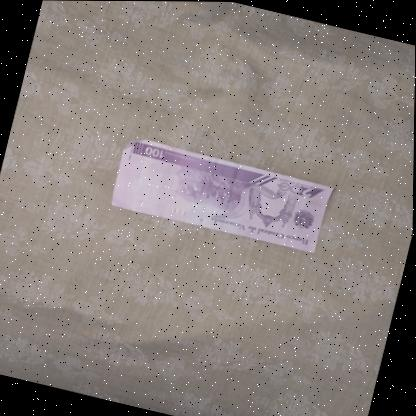vef_back: (109, 135, 336, 255)
